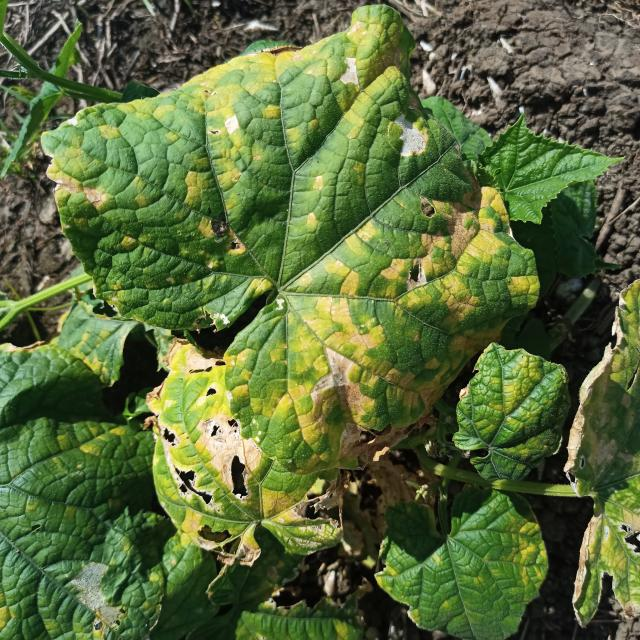disease_cucumber: (55, 22, 506, 532)
